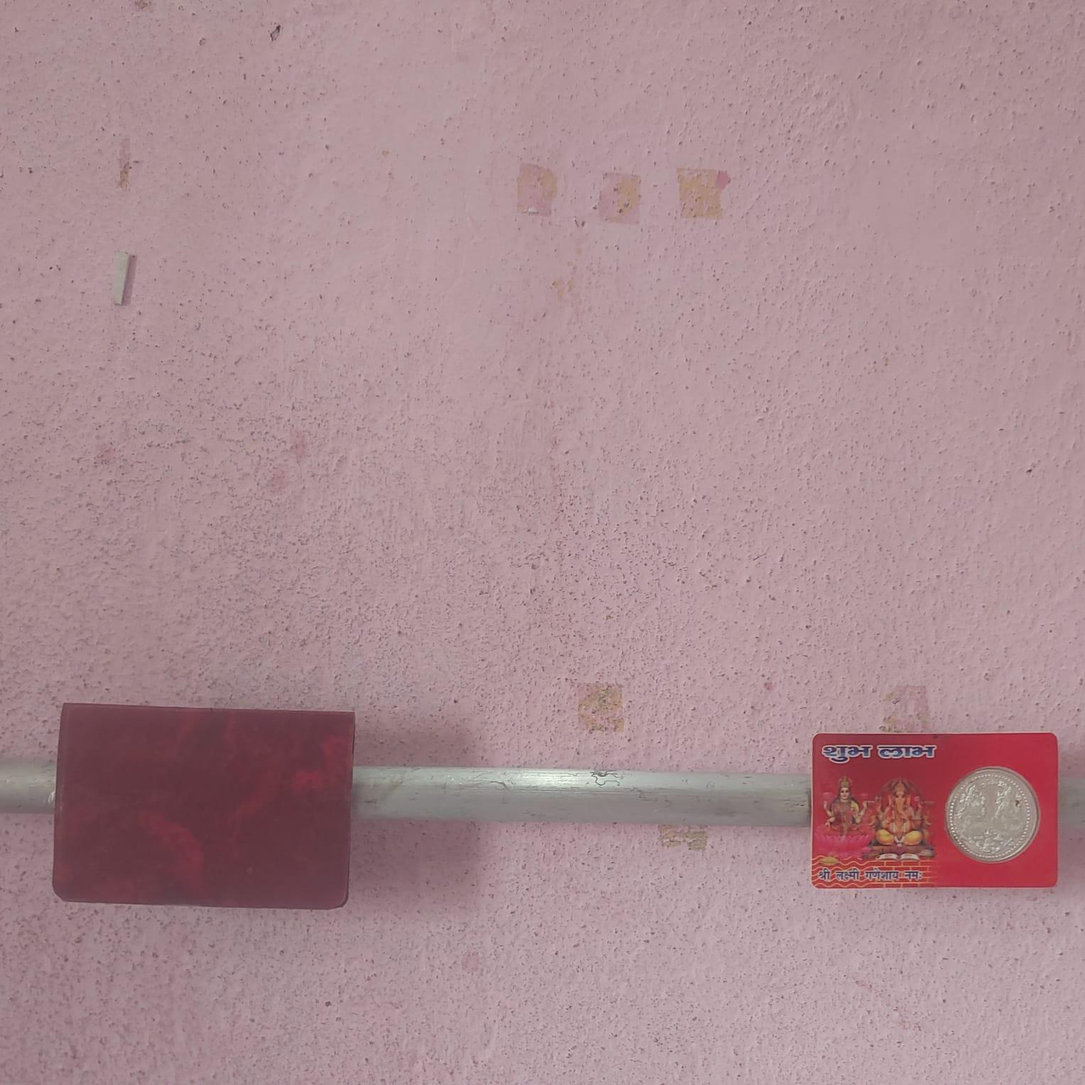blessing_card: (809, 736, 1063, 886)
wallet: (52, 704, 353, 905)
